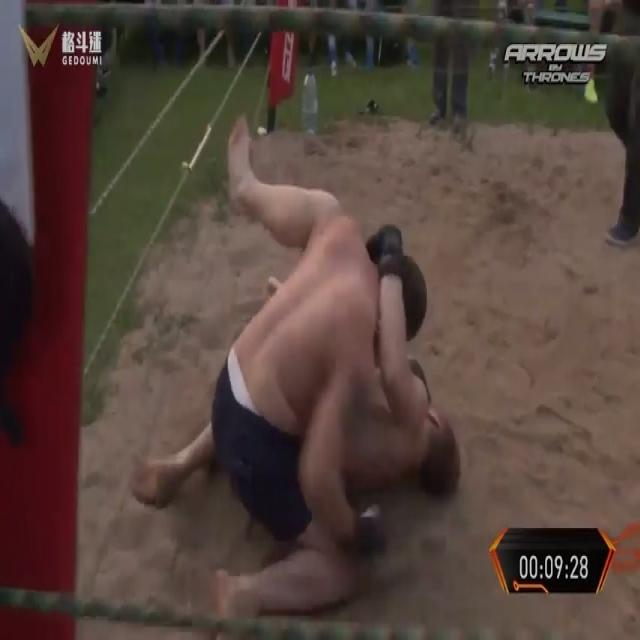fight: (138, 123, 466, 617)
non-fight: (586, 0, 640, 256)
